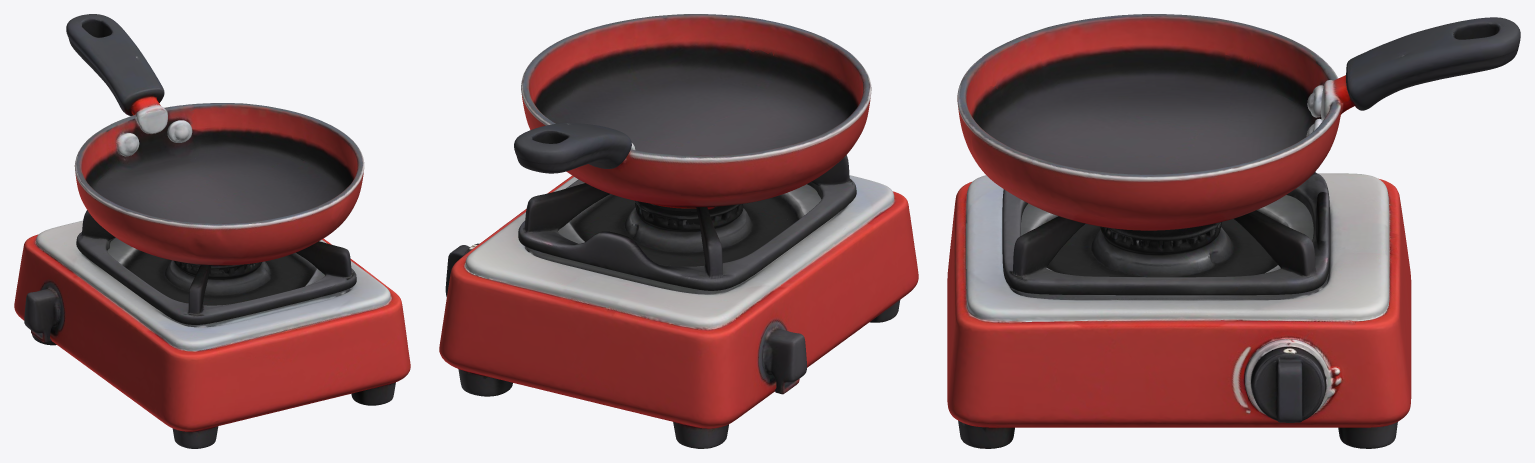
Rendered from tripo_convert_610566ef-433f-40c4-8830-68113ed2050c.fbx.
The picture shows the model from 3 angles, left to right: view 1: azimuth 30°, elevation 25°; view 2: azimuth 150°, elevation 25°; view 3: azimuth 270°, elevation 25°; orthographic projection. The views are drawn at different scales.
Parts seen in each view (by area): view 1: tripo_node_610566ef; view 2: tripo_node_610566ef; view 3: tripo_node_610566ef.
Boxes of the visible parts, x1=… form: tripo_node_610566ef: x1=14, y1=14, x2=410, y2=448; tripo_node_610566ef: x1=439, y1=14, x2=918, y2=448; tripo_node_610566ef: x1=947, y1=14, x2=1520, y2=448.
Size of the model in its own units: 0.787 by 0.6737 by 1.
